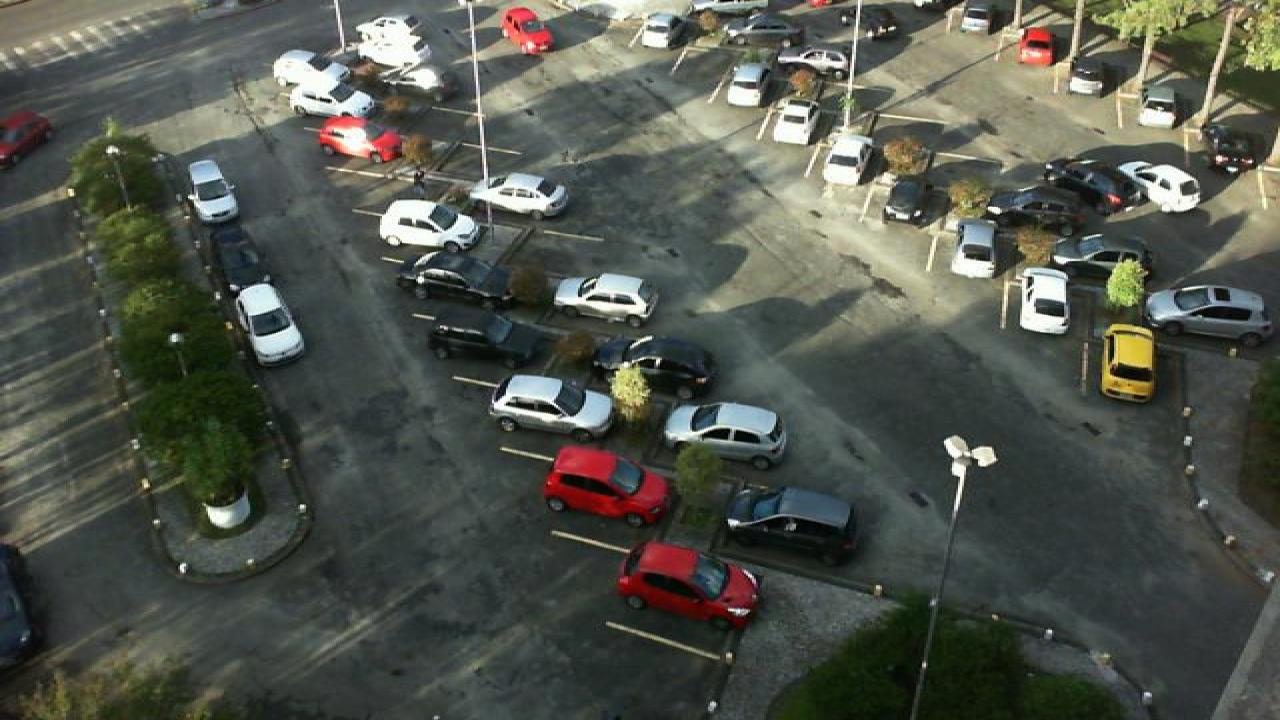Car: (614, 541, 764, 630), (724, 484, 860, 569), (540, 446, 674, 528), (660, 401, 788, 472), (490, 373, 614, 444), (1144, 282, 1274, 349), (396, 248, 520, 310), (422, 300, 540, 364), (590, 334, 714, 393), (376, 197, 484, 256), (552, 271, 658, 329), (236, 284, 306, 366), (1052, 231, 1156, 281), (1096, 323, 1160, 404), (1042, 155, 1138, 208), (466, 171, 570, 218), (202, 219, 268, 287), (1116, 160, 1202, 212), (984, 185, 1092, 225), (316, 115, 404, 163), (1014, 268, 1072, 335), (358, 15, 432, 65), (290, 80, 376, 121), (186, 158, 238, 224), (272, 48, 344, 92), (948, 217, 998, 279), (1198, 122, 1258, 172), (368, 62, 448, 96), (502, 6, 554, 54), (824, 135, 872, 187), (882, 178, 932, 226), (770, 97, 818, 145), (774, 45, 852, 74), (850, 1, 904, 41), (720, 22, 800, 48), (724, 61, 768, 107), (1134, 86, 1180, 128), (1064, 54, 1106, 98), (1014, 26, 1058, 67), (640, 12, 686, 48), (956, 0, 998, 34)
